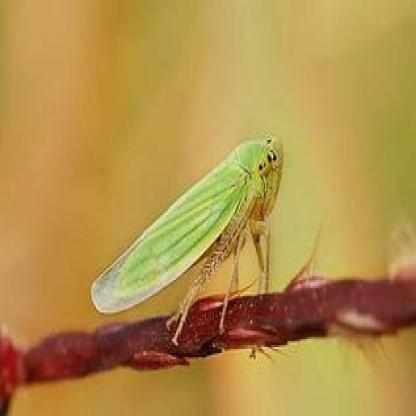Green-Leafhopper: (90, 129, 286, 340)
